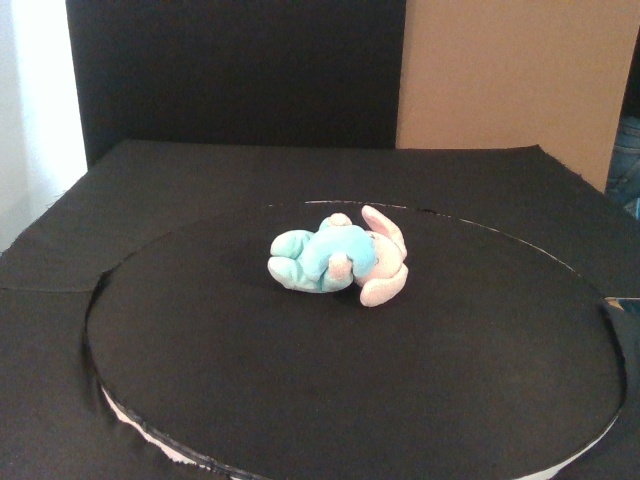teddy_bear: (266, 205, 410, 308)
